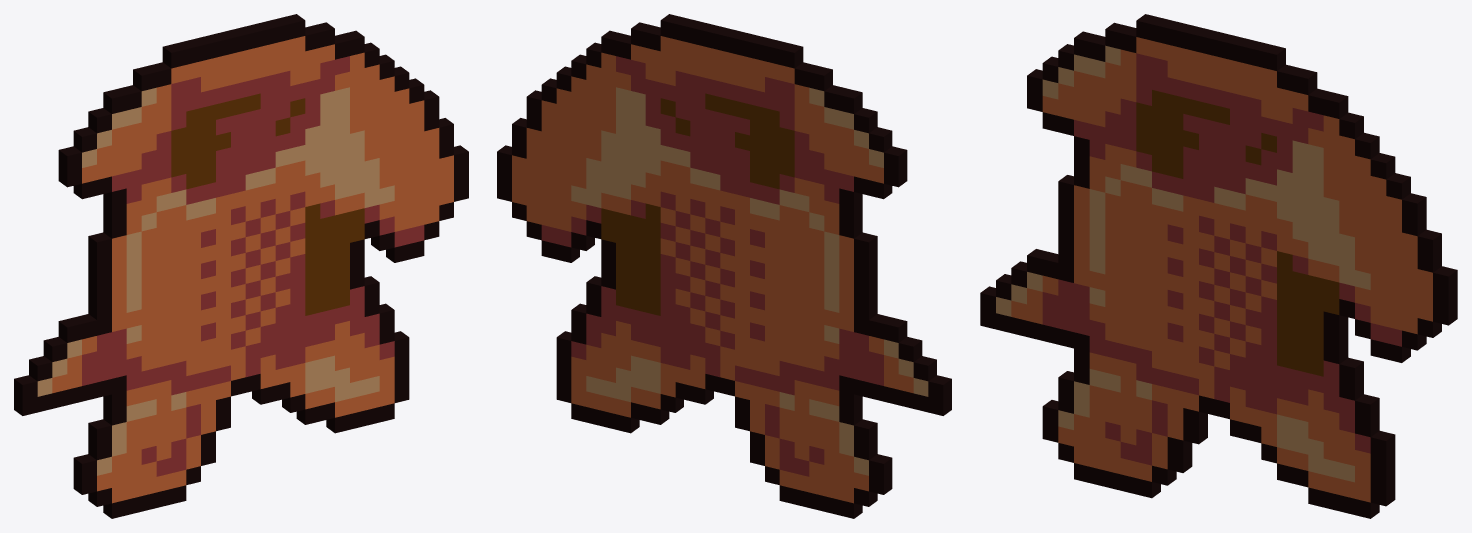
File: A_Armour01.fbx
3 views of the same model, side by side, from view 1: azimuth 30°, elevation 25°; view 2: azimuth 150°, elevation 25°; view 3: azimuth 330°, elevation 25° (orthographic). The views are drawn at different scales.
Visible parts, largest first — view 1: Default; view 2: Default; view 3: Default.
Boxes of the visible parts, box(x1,y1,x2,y2) form: Default: box(14, 14, 468, 518); Default: box(497, 14, 951, 518); Default: box(980, 14, 1457, 518).
Bounding box in the file's own units: 30 × 29 × 1.
Materials: 1 (1 with a texture image).
